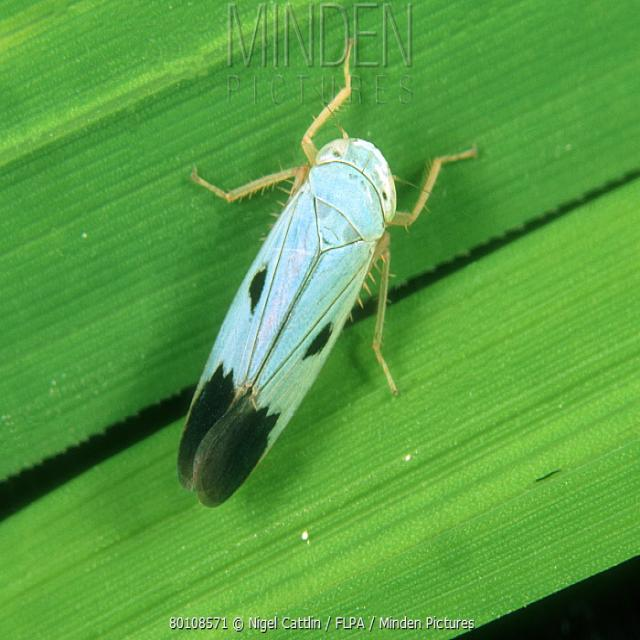Yechan: (188, 98, 434, 536)
